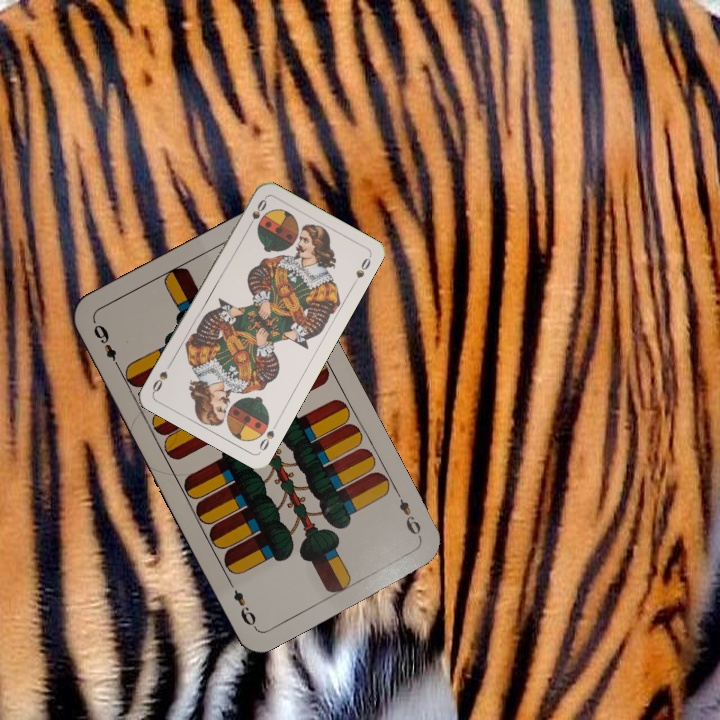E9: (89, 318, 124, 373), (391, 486, 425, 541)
SO: (243, 194, 269, 232), (255, 417, 281, 454)
